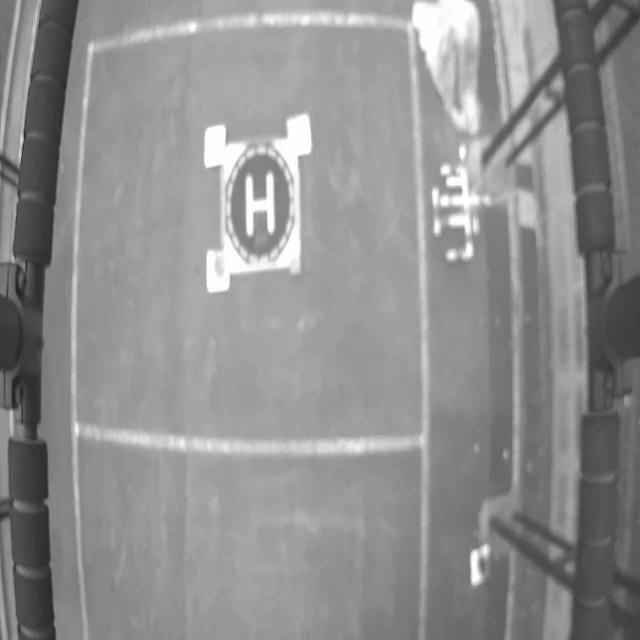Helipad: (245, 172, 276, 238)
